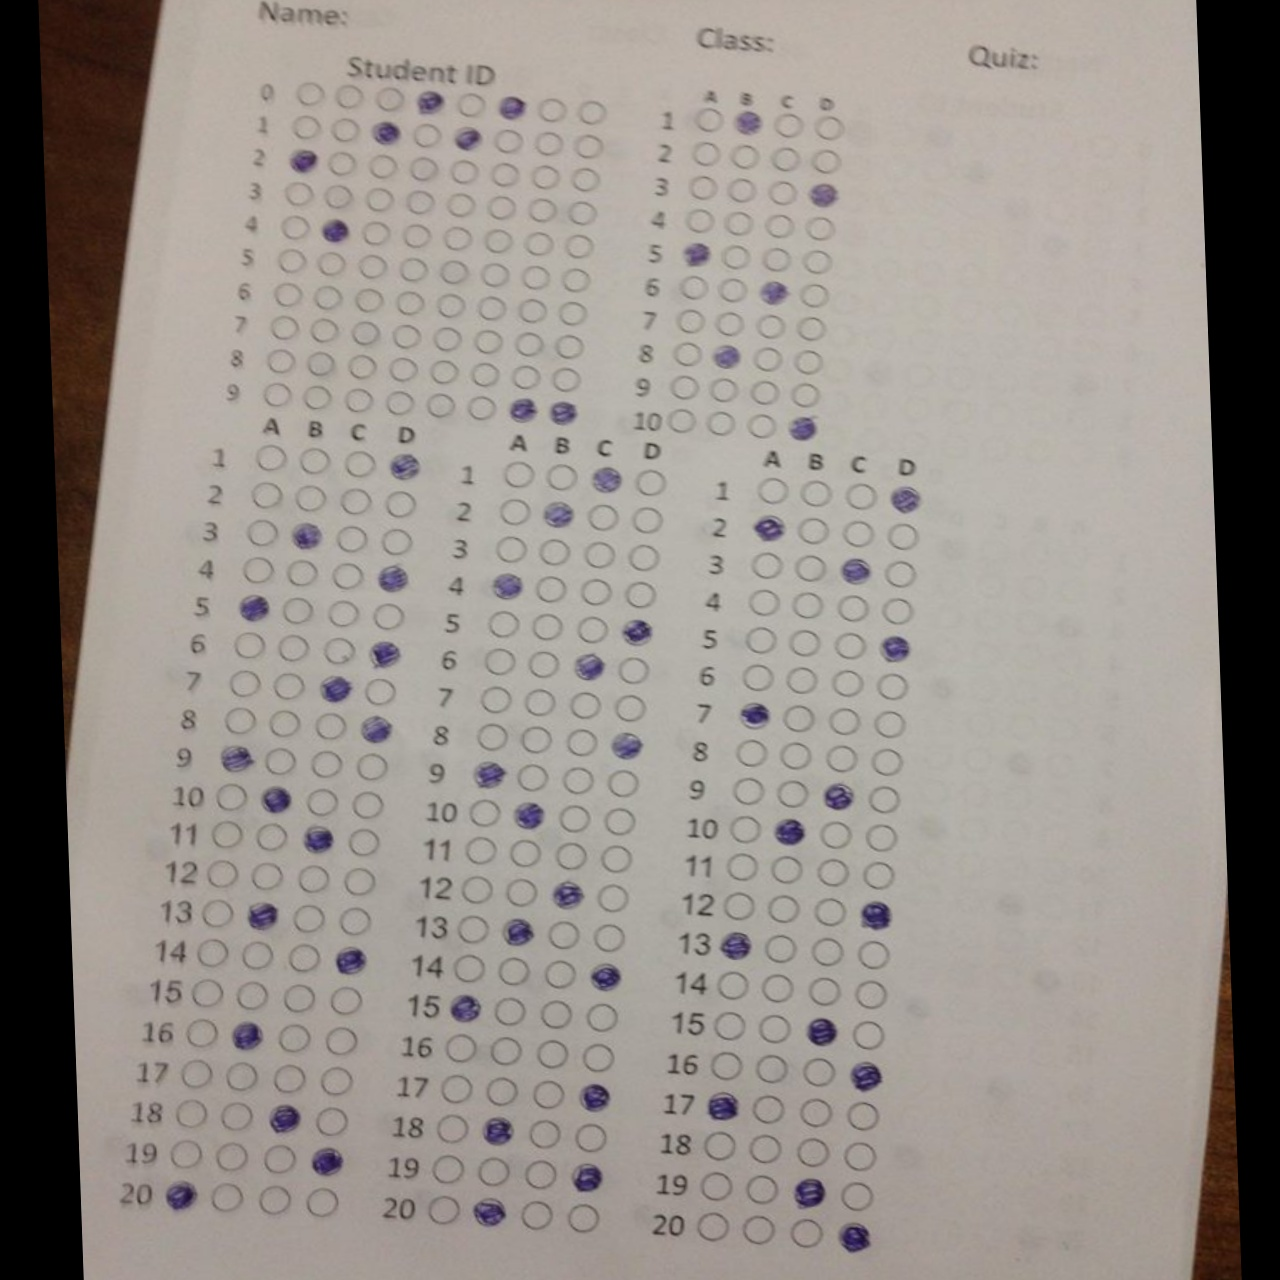not-c: (587, 919, 629, 958), (268, 1060, 309, 1096), (309, 1103, 350, 1139), (181, 1013, 220, 1049), (205, 1178, 245, 1214), (302, 1184, 342, 1220), (338, 863, 377, 899), (250, 818, 290, 855), (427, 1150, 467, 1186), (215, 1098, 256, 1133), (234, 938, 275, 973), (324, 982, 365, 1017), (166, 1136, 205, 1172), (527, 1074, 566, 1110), (837, 1177, 876, 1213), (740, 1210, 778, 1246), (789, 550, 828, 586), (779, 661, 818, 697), (771, 775, 810, 811), (815, 815, 853, 851), (764, 852, 803, 888), (753, 1049, 791, 1085), (792, 1135, 831, 1171), (190, 935, 230, 971), (185, 974, 225, 1009), (175, 1055, 215, 1090), (170, 1096, 210, 1131), (230, 978, 270, 1013), (272, 1020, 312, 1055), (257, 1139, 297, 1175), (334, 903, 374, 938), (287, 900, 327, 935), (292, 862, 332, 897), (247, 857, 287, 892), (441, 1030, 481, 1065), (576, 1039, 615, 1074), (740, 1171, 779, 1206), (485, 1032, 523, 1068), (695, 1167, 733, 1204), (709, 1008, 747, 1044), (723, 847, 761, 884), (731, 735, 769, 771), (741, 622, 778, 659), (798, 1054, 836, 1090), (222, 1058, 260, 1094), (281, 939, 320, 974), (254, 1182, 293, 1217), (314, 1063, 353, 1098), (319, 1024, 358, 1060), (341, 824, 380, 859), (581, 998, 620, 1033), (436, 1071, 475, 1107), (433, 1111, 471, 1146), (563, 1200, 601, 1235), (787, 1214, 825, 1250), (699, 1128, 737, 1163), (710, 966, 749, 1001), (726, 811, 764, 846), (745, 584, 784, 619), (747, 547, 785, 583), (789, 587, 828, 622), (787, 622, 825, 658), (775, 737, 813, 772), (808, 935, 846, 971), (754, 1010, 792, 1046), (794, 1095, 832, 1130), (209, 1141, 248, 1175), (278, 978, 318, 1012), (490, 994, 527, 1029), (533, 1035, 571, 1070), (482, 1074, 519, 1109), (423, 1192, 461, 1227), (474, 1152, 511, 1187), (520, 1156, 558, 1191), (525, 1116, 563, 1151), (515, 1197, 552, 1232), (839, 1138, 877, 1173), (704, 1046, 742, 1081), (737, 659, 775, 694), (779, 700, 817, 735), (813, 855, 851, 890), (811, 894, 849, 930), (804, 973, 842, 1008), (758, 971, 796, 1006), (744, 1131, 782, 1166), (749, 1091, 787, 1126), (305, 745, 343, 779), (529, 572, 567, 606), (622, 539, 661, 573), (584, 501, 622, 535), (448, 949, 486, 983), (543, 915, 581, 949), (570, 1121, 608, 1155), (847, 1017, 886, 1051), (515, 722, 554, 755), (452, 911, 492, 944), (765, 890, 802, 925), (328, 558, 366, 592), (368, 599, 406, 633), (211, 779, 248, 813), (479, 644, 517, 678), (470, 719, 508, 753), (561, 724, 599, 758), (512, 760, 550, 794), (537, 998, 574, 1032), (694, 1208, 731, 1242), (719, 888, 756, 922), (728, 772, 765, 806), (760, 930, 797, 964), (251, 441, 290, 474), (290, 482, 328, 515), (380, 486, 418, 519), (350, 749, 389, 782), (202, 855, 240, 887), (571, 612, 610, 645), (503, 836, 542, 869), (550, 840, 588, 873), (597, 804, 635, 837), (595, 840, 634, 873), (753, 474, 791, 506), (796, 478, 835, 511), (883, 519, 921, 552), (879, 556, 918, 588), (876, 594, 914, 627), (843, 1097, 881, 1130), (823, 704, 862, 737), (601, 765, 638, 799), (853, 937, 890, 971), (238, 553, 275, 586), (222, 703, 259, 736), (282, 556, 320, 588), (332, 520, 369, 553), (324, 597, 361, 629), (260, 744, 298, 777), (348, 789, 386, 822), (302, 785, 340, 818), (197, 896, 234, 928), (526, 610, 564, 642), (533, 536, 571, 568), (620, 577, 658, 610), (558, 763, 595, 796), (464, 795, 502, 828), (554, 803, 592, 836), (592, 881, 629, 914), (493, 954, 531, 987), (540, 958, 578, 990), (867, 745, 905, 778), (860, 822, 898, 855), (858, 857, 896, 890), (833, 590, 871, 622), (821, 741, 858, 774), (338, 445, 376, 477), (224, 666, 263, 697), (267, 670, 306, 702), (272, 632, 311, 663), (275, 593, 314, 625), (264, 707, 302, 738), (359, 675, 397, 707), (495, 496, 533, 527), (482, 607, 520, 639), (475, 683, 513, 715), (564, 689, 602, 721), (520, 687, 559, 719), (523, 648, 561, 680), (629, 467, 668, 498), (576, 574, 614, 606), (612, 654, 651, 686), (459, 833, 498, 865), (502, 874, 540, 906), (456, 872, 495, 904), (836, 517, 874, 549), (863, 784, 901, 816), (849, 978, 887, 1009), (830, 629, 869, 661), (295, 444, 333, 476), (246, 478, 284, 510), (241, 517, 279, 549), (231, 629, 268, 661), (335, 485, 373, 517), (320, 633, 358, 665), (309, 710, 347, 742), (376, 526, 414, 558), (207, 817, 245, 849), (498, 457, 536, 489), (491, 533, 529, 565), (542, 459, 579, 491), (628, 504, 666, 536), (579, 539, 617, 571), (610, 692, 647, 723), (840, 481, 878, 512), (794, 515, 831, 546), (871, 670, 908, 702), (867, 708, 905, 740), (829, 666, 866, 697), (762, 210, 798, 240), (257, 377, 292, 408), (302, 347, 338, 377), (325, 115, 360, 145), (363, 149, 399, 179), (485, 157, 520, 188), (452, 89, 488, 120), (559, 230, 594, 260), (358, 217, 393, 247), (438, 223, 474, 253), (431, 290, 467, 320), (465, 358, 501, 388), (710, 307, 745, 338), (721, 207, 756, 238), (768, 143, 803, 173), (792, 312, 828, 342), (790, 345, 825, 375), (273, 245, 309, 274), (549, 331, 585, 360), (346, 315, 382, 345), (476, 260, 512, 290), (421, 389, 457, 418), (687, 137, 723, 166), (810, 114, 846, 143), (742, 411, 778, 441), (270, 279, 304, 309), (298, 381, 332, 411), (331, 81, 365, 111), (527, 159, 561, 190), (563, 196, 597, 226), (559, 264, 593, 294), (554, 298, 588, 328), (484, 191, 518, 222), (360, 183, 394, 213), (354, 250, 388, 280), (350, 284, 384, 314), (384, 352, 418, 382), (435, 257, 469, 287), (462, 392, 496, 422), (468, 327, 502, 358), (474, 293, 508, 324), (686, 170, 720, 200), (675, 270, 709, 300), (704, 374, 738, 404), (723, 173, 757, 204), (769, 109, 803, 139), (765, 177, 799, 207), (760, 244, 794, 274), (787, 379, 821, 409), (263, 346, 298, 375), (305, 316, 340, 346), (312, 248, 347, 278), (369, 84, 404, 114), (565, 165, 600, 195), (530, 128, 565, 157), (515, 263, 550, 292), (519, 229, 554, 258), (442, 189, 477, 218), (400, 186, 435, 216), (387, 321, 422, 350), (390, 287, 425, 316), (702, 407, 737, 436), (715, 241, 750, 271), (726, 142, 761, 171), (801, 213, 836, 243), (796, 280, 831, 309), (292, 79, 326, 108), (275, 212, 309, 241), (267, 312, 301, 341), (318, 181, 352, 210), (324, 148, 358, 177), (404, 154, 438, 183), (535, 94, 568, 123), (549, 363, 583, 393), (510, 331, 544, 360), (523, 195, 557, 224), (345, 349, 379, 379), (395, 254, 429, 284), (399, 220, 433, 250), (479, 225, 513, 254), (425, 355, 459, 384), (690, 103, 724, 132), (672, 306, 706, 335), (670, 338, 704, 367), (666, 372, 700, 401), (798, 247, 832, 277), (809, 147, 843, 176), (745, 377, 779, 407), (407, 120, 442, 148), (445, 157, 481, 185), (513, 297, 549, 325), (341, 384, 376, 413), (380, 389, 415, 417), (427, 324, 462, 352), (750, 312, 785, 340), (279, 179, 313, 207), (309, 282, 343, 311), (568, 131, 602, 159), (574, 97, 608, 125), (490, 125, 524, 154), (508, 363, 542, 392), (681, 204, 715, 232), (663, 404, 697, 433), (748, 343, 782, 372), (288, 113, 324, 139), (714, 275, 748, 302)
taken-c: (787, 1175, 829, 1214), (700, 1085, 742, 1125), (832, 1217, 873, 1257), (745, 509, 788, 547), (872, 629, 914, 667), (282, 516, 325, 553), (302, 1142, 345, 1179), (803, 1014, 844, 1051), (713, 927, 754, 965), (383, 445, 424, 483), (229, 587, 270, 625), (313, 669, 354, 707), (353, 710, 394, 748), (853, 896, 896, 932), (883, 479, 925, 516), (212, 740, 254, 776), (294, 819, 336, 856), (238, 896, 280, 932), (768, 813, 809, 850), (835, 552, 876, 588), (361, 634, 402, 670), (252, 781, 293, 817), (329, 940, 370, 976), (157, 1176, 198, 1212), (843, 1058, 884, 1094), (817, 778, 858, 813), (731, 696, 772, 731), (372, 560, 413, 595), (224, 1016, 265, 1051), (263, 1099, 302, 1135), (467, 758, 508, 791), (444, 990, 483, 1024), (564, 1160, 602, 1194), (497, 914, 535, 948), (478, 1112, 516, 1146), (485, 568, 524, 601), (584, 960, 622, 993), (468, 1194, 506, 1227), (585, 463, 625, 495), (536, 499, 576, 531), (615, 615, 655, 647), (573, 1080, 611, 1112), (568, 651, 607, 682), (606, 729, 645, 761), (508, 798, 546, 830), (547, 877, 586, 908), (706, 340, 741, 372), (491, 91, 527, 122), (448, 120, 482, 151), (504, 394, 538, 425), (727, 105, 761, 137), (410, 87, 445, 117), (365, 117, 400, 148), (282, 145, 318, 176), (314, 213, 349, 244), (675, 238, 710, 268), (545, 399, 579, 429), (783, 413, 817, 443), (754, 275, 788, 306), (804, 179, 838, 210)
